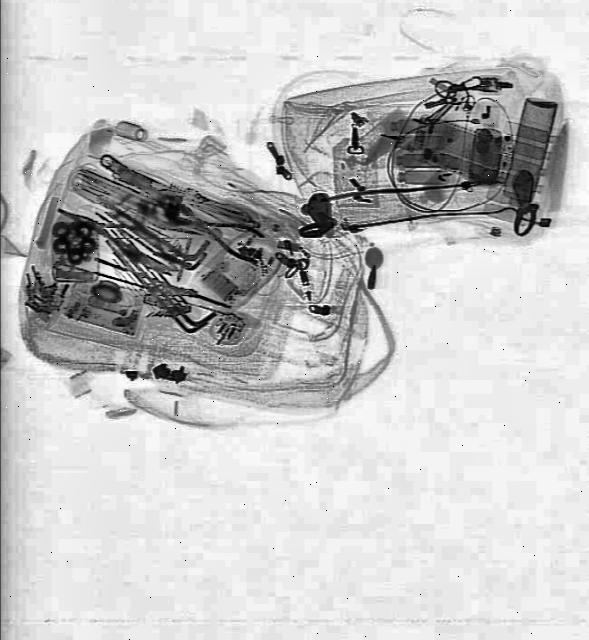Pliers: (48, 195, 185, 281), (174, 206, 266, 266)
Wrench: (95, 150, 198, 234)
